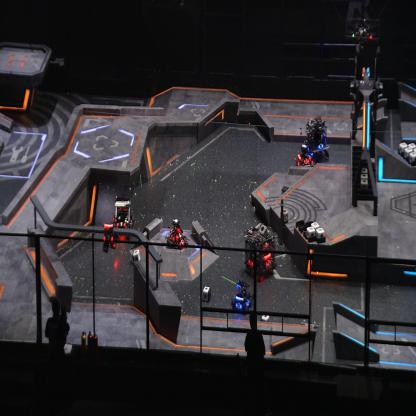car: (244, 225, 276, 282), (304, 114, 330, 160), (110, 196, 134, 238), (230, 279, 252, 317), (166, 218, 190, 251), (293, 144, 315, 172)
